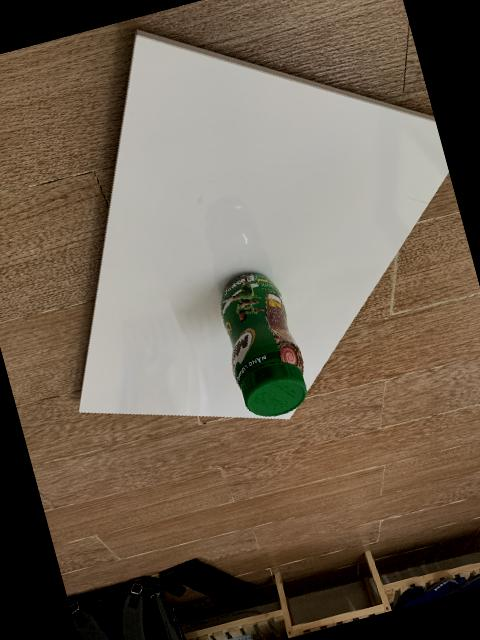milo: (219, 271, 305, 416)
